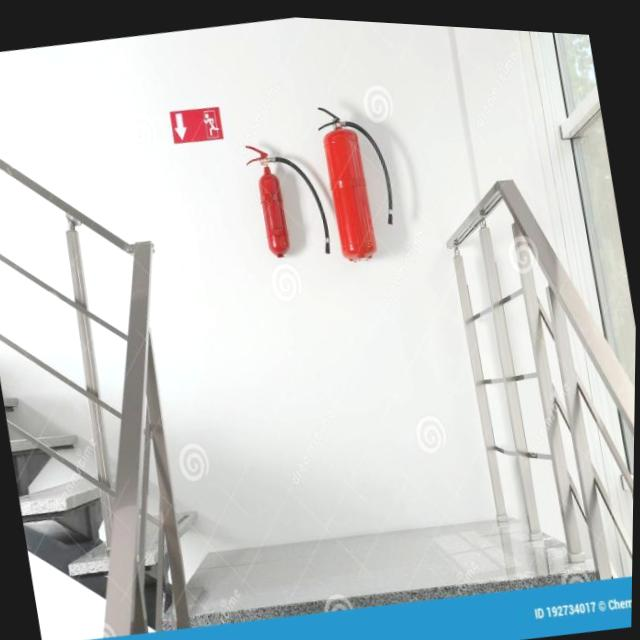FireExtinguisher: (308, 86, 409, 267), (237, 124, 338, 273)
